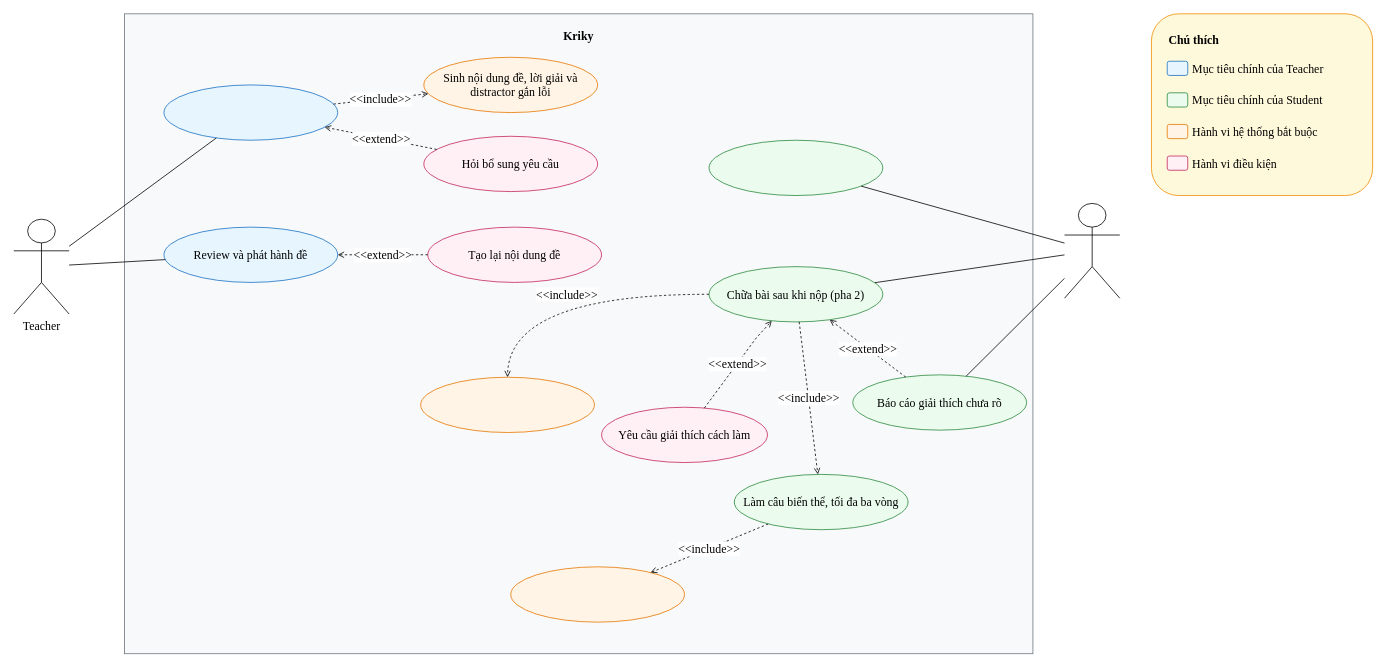
Image size: 1386x668. Some labels were removed from this diagram. The box of each missing label's shape, as (x1, y1, x2, y2) in pixels:
Chấm bài: (420, 376, 594, 433)
Làm và nộp bài (pha 1): (708, 139, 883, 196)
Student: (1064, 203, 1120, 298)
Tạo câu biến thể của chính câu sai: (510, 566, 685, 622)
Tạo đề nháp: (163, 84, 338, 140)
